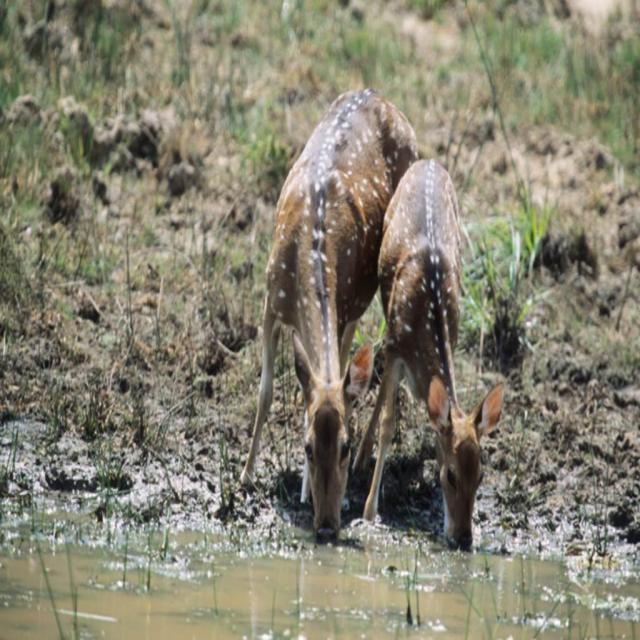Deer: (236, 87, 418, 542), (352, 159, 504, 550)
